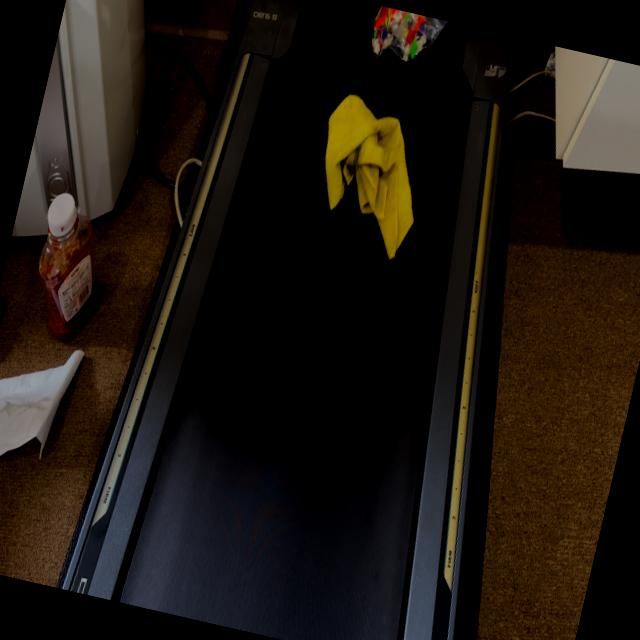Trash: (298, 70, 452, 276), (355, 2, 465, 76)
